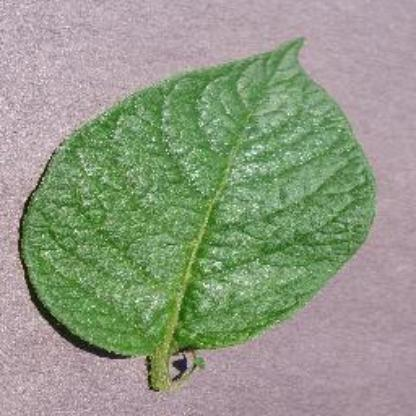Healthy-plant: (16, 40, 378, 390)
